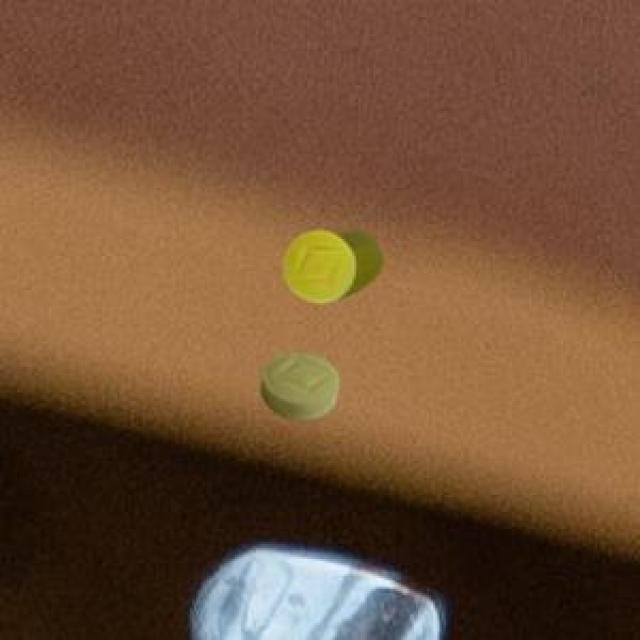Decolgen: (261, 218, 392, 316), (249, 343, 355, 432)
